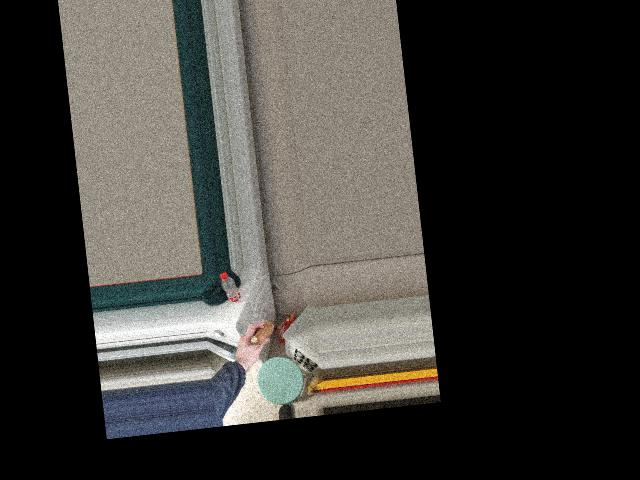sweet_potato: (245, 318, 274, 348)
